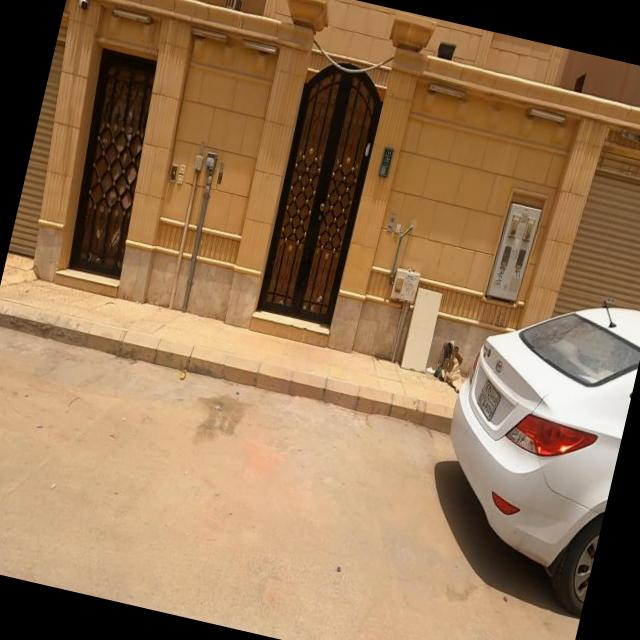debris: (379, 296, 498, 442)
